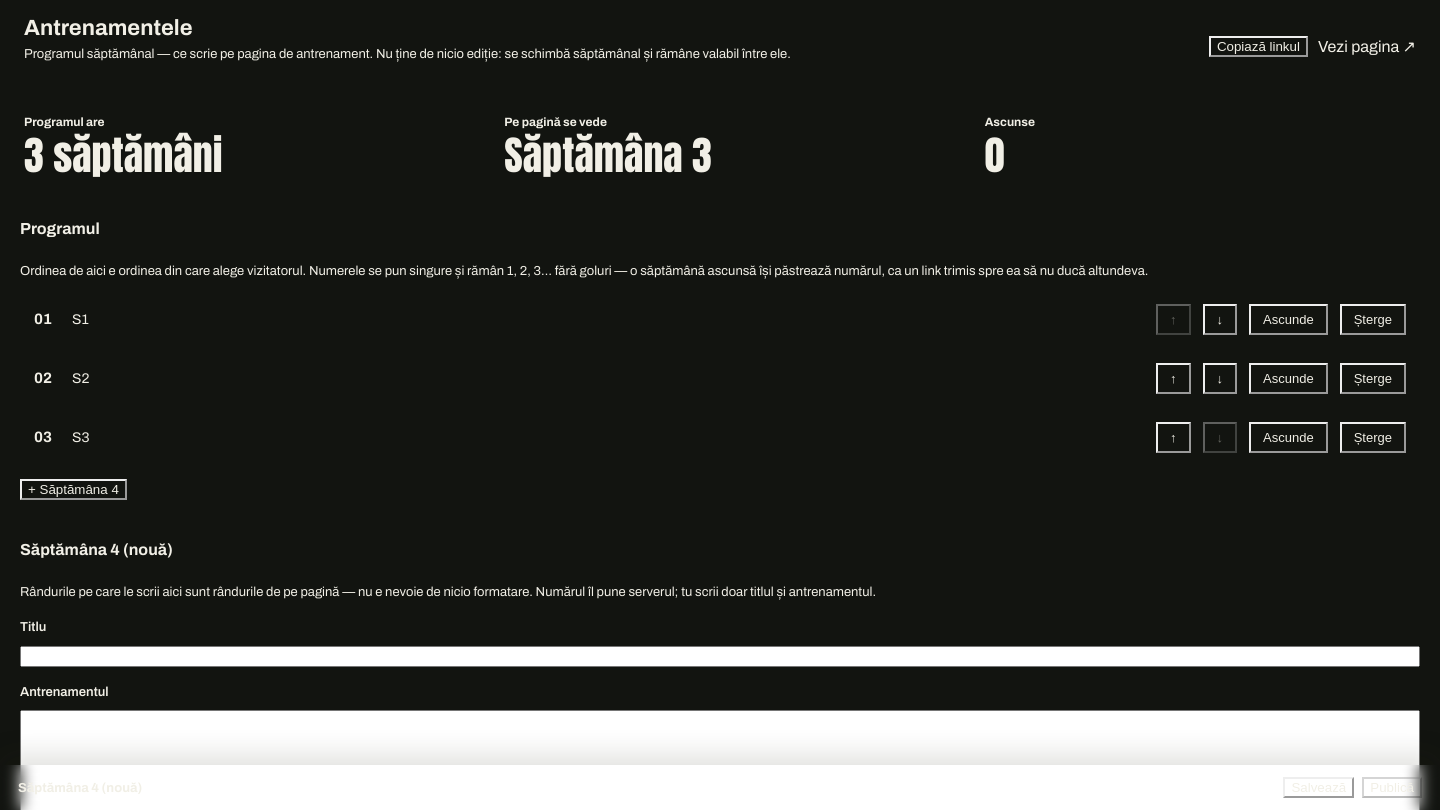
it: ștergerea › la anulare nu se șterge nimic
Expected: the button "S2" is shown, [72,365,1144,392]
Click the button with aria-label "Șterge săptămâna 2" at (1373, 378), box [1340,363,1406,394]
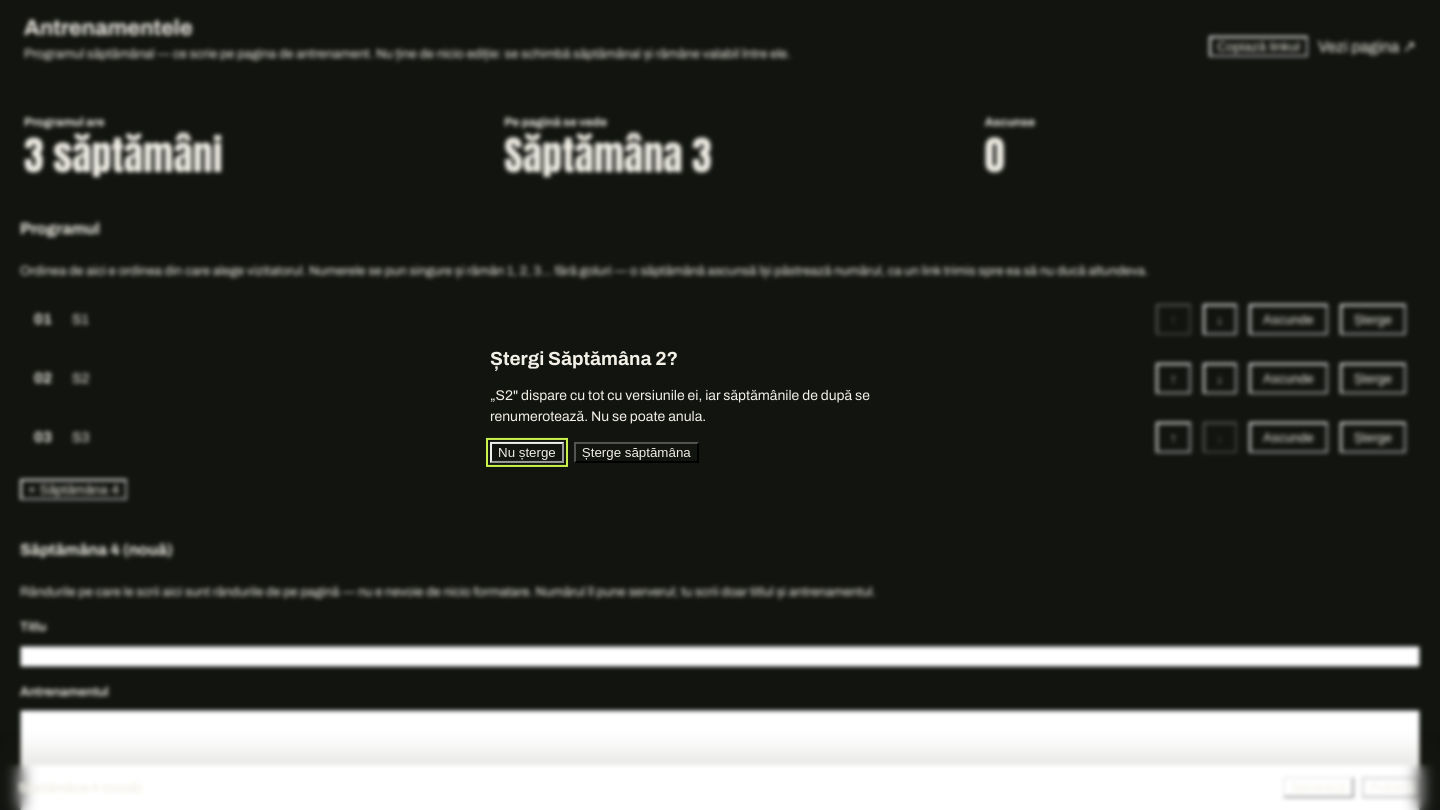
Click the button "Nu șterge" at (527, 453), box [490,442,564,463]
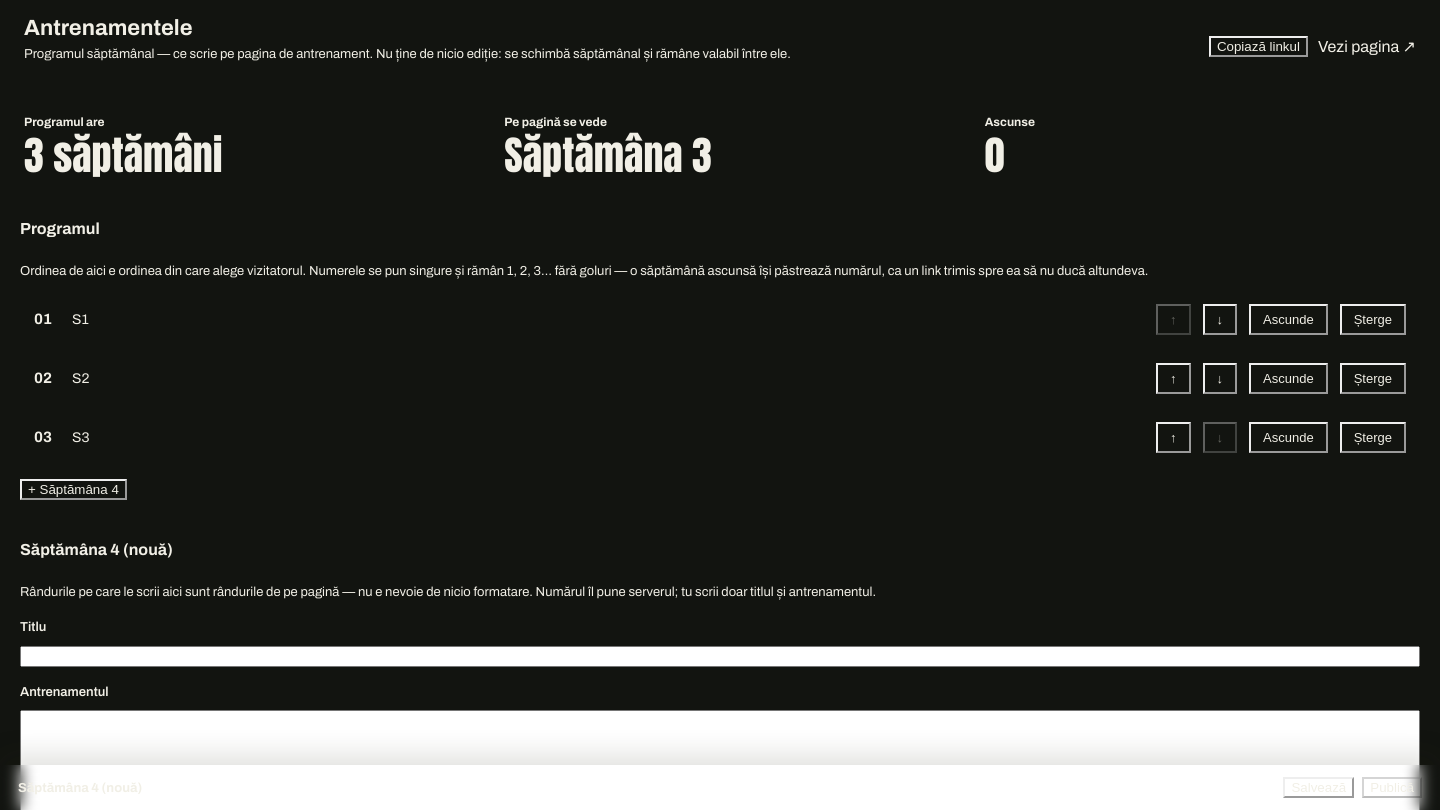
Expected: the dialog is gone
